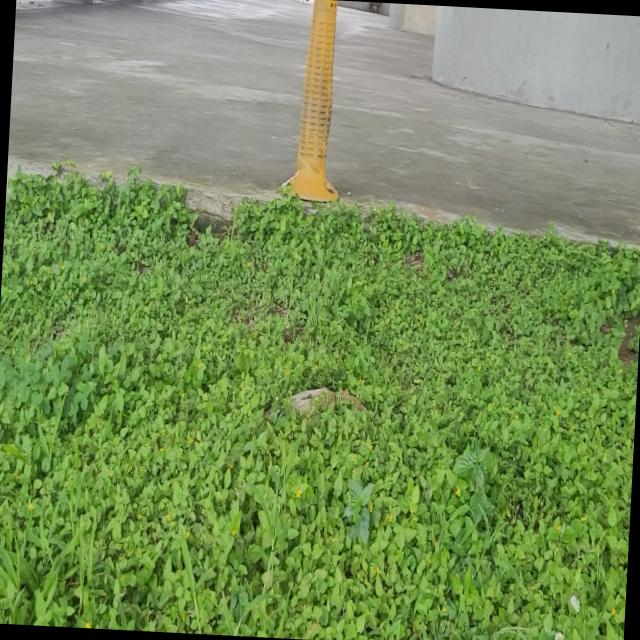cement: (326, 8, 640, 242), (8, 0, 311, 193)
grass: (0, 164, 640, 640)
